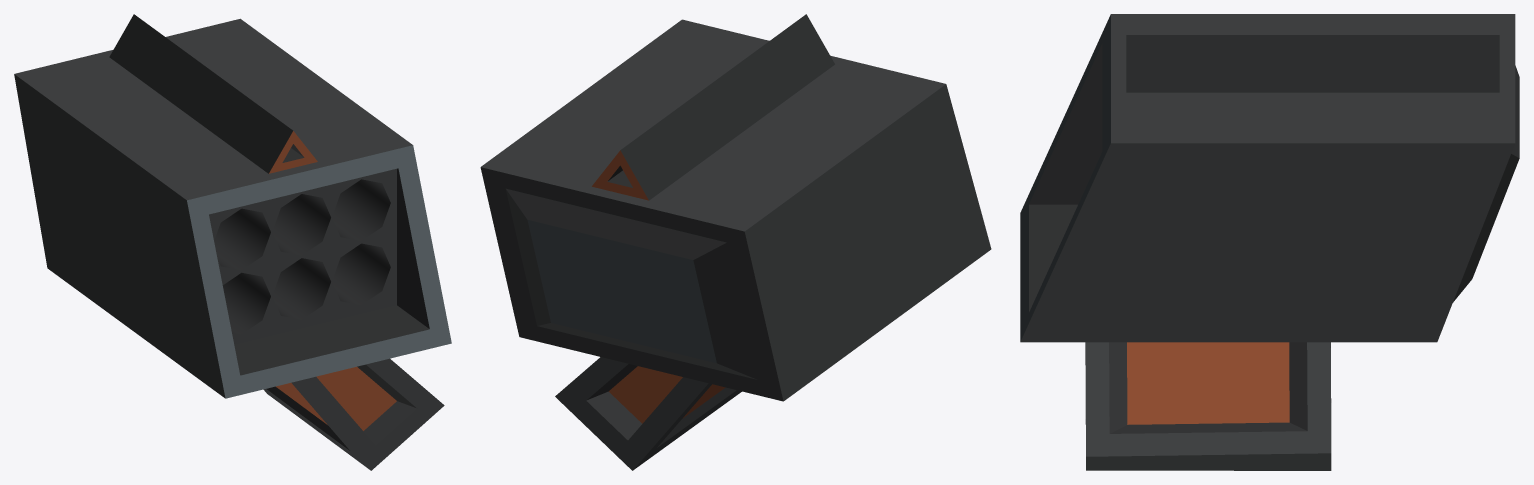
Rendered from Broken missiles.fbx.
3 renders of one model, left to right at view 1: azimuth 30°, elevation 25°; view 2: azimuth 150°, elevation 25°; view 3: azimuth 270°, elevation 25°, orthographic. The views are drawn at different scales.
Parts seen in each view (by area): view 1: Homing Missiles; view 2: Homing Missiles; view 3: Homing Missiles.
Boxes of the visible parts, x1=… form: Homing Missiles: x1=14, y1=14, x2=451, y2=470; Homing Missiles: x1=480, y1=14, x2=991, y2=470; Homing Missiles: x1=1020, y1=14, x2=1519, y2=470.
Bounding box in the file's own units: 122 × 162 × 183.
